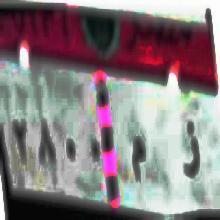0: (62, 130, 79, 166), (88, 133, 101, 173)
2: (12, 113, 30, 176)
8: (37, 115, 58, 171)
meem: (127, 127, 148, 189)
zay: (179, 117, 203, 187)
